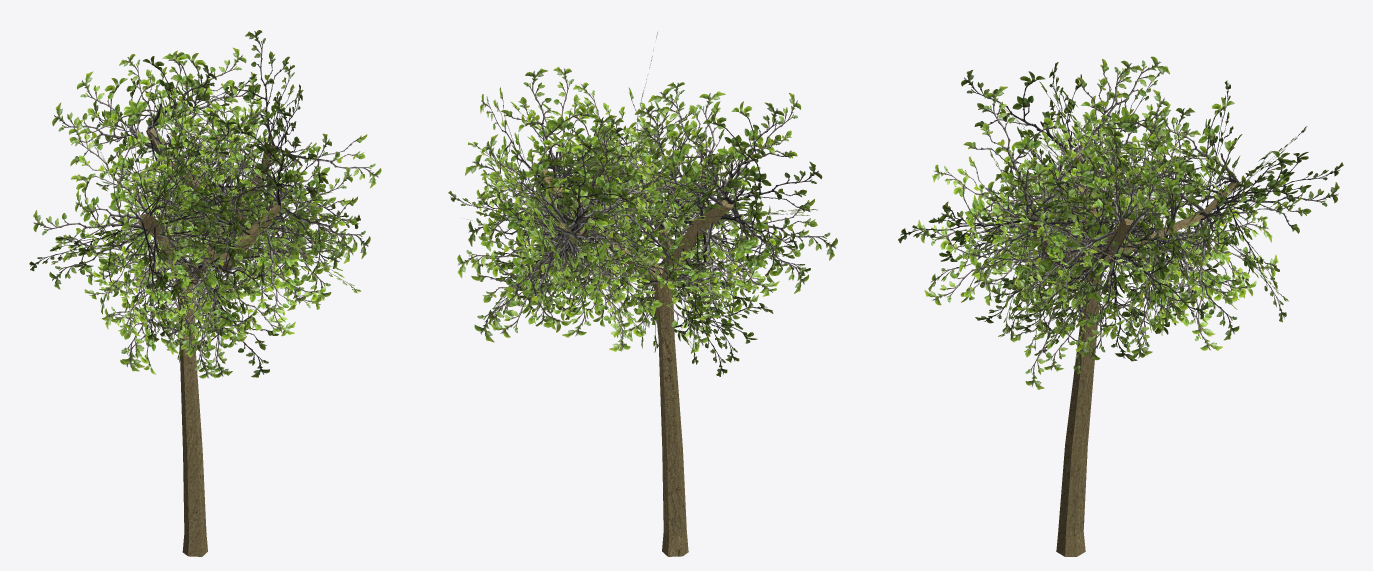
File: Tree1.fbx
3 renders of one model, left to right at view 1: azimuth 30°, elevation 25°; view 2: azimuth 150°, elevation 25°; view 3: azimuth 270°, elevation 25°, orthographic. The views are drawn at different scales.
Parts seen in each view (by area): view 1: Tree1, Tree1|Tree branchvebg-preview|Dupli|31, Tree1|Tree branchvebg-preview|Dupli|193, Tree1|Tree branchvebg-preview|Dupli|196, Tree1|Tree branchvebg-preview|Dupli|25, Tree1|Tree branchvebg-preview|Dupli|111, Tree1|Tree branchvebg-preview|Dupli|176, Tree1|Tree branchvebg-preview|Dupli|114, Tree1|Tree branchvebg-preview|Dupli|72, Tree1|Tree branchvebg-preview|Dupli|150, Tree1|Tree branchvebg-preview|Dupli|37, Tree1|Tree branchvebg-preview|Dupli|64 (+65 smaller); view 2: Tree1, Tree1|Tree branchvebg-preview|Dupli|113, Tree1|Tree branchvebg-preview|Dupli|44, Tree1|Tree branchvebg-preview|Dupli|152, Tree1|Tree branchvebg-preview|Dupli|24, Tree1|Tree branchvebg-preview|Dupli|116, Tree1|Tree branchvebg-preview|Dupli|81, Tree1|Tree branchvebg-preview|Dupli|147, Tree1|Tree branchvebg-preview|Dupli|52, Tree1|Tree branchvebg-preview|Dupli|150, Tree1|Tree branchvebg-preview|Dupli|28, Tree1|Tree branchvebg-preview|Dupli|55 (+52 smaller); view 3: Tree1, Tree1|Tree branchvebg-preview|Dupli|176, Tree1|Tree branchvebg-preview|Dupli|75, Tree1|Tree branchvebg-preview|Dupli|79, Tree1|Tree branchvebg-preview|Dupli|112, Tree1|Tree branchvebg-preview|Dupli|77, Tree1|Tree branchvebg-preview|Dupli|181, Tree1|Tree branchvebg-preview|Dupli|177, Tree1|Tree branchvebg-preview|Dupli|20, Tree1|Tree branchvebg-preview|Dupli|146, Tree1|Tree branchvebg-preview|Dupli|184, Tree1|Tree branchvebg-preview|Dupli|48 (+46 smaller).
Part boxes in pixels (x1,y1,x2,y2): Tree1: [138, 128, 282, 556]; Tree1|Tree branchvebg-preview|Dupli|31: [68, 119, 151, 214]; Tree1|Tree branchvebg-preview|Dupli|193: [239, 230, 325, 335]; Tree1|Tree branchvebg-preview|Dupli|196: [284, 196, 370, 281]; Tree1|Tree branchvebg-preview|Dupli|25: [33, 173, 145, 262]; Tree1|Tree branchvebg-preview|Dupli|111: [52, 78, 156, 166]; Tree1|Tree branchvebg-preview|Dupli|176: [233, 105, 317, 205]; Tree1|Tree branchvebg-preview|Dupli|114: [76, 71, 165, 149]; Tree1|Tree branchvebg-preview|Dupli|72: [224, 30, 289, 145]; Tree1|Tree branchvebg-preview|Dupli|150: [108, 54, 166, 151]; Tree1|Tree branchvebg-preview|Dupli|37: [49, 225, 153, 296]; Tree1|Tree branchvebg-preview|Dupli|64: [273, 134, 381, 209]; Tree1: [539, 167, 733, 556]; Tree1|Tree branchvebg-preview|Dupli|113: [471, 233, 571, 342]; Tree1|Tree branchvebg-preview|Dupli|44: [638, 88, 734, 203]; Tree1|Tree branchvebg-preview|Dupli|152: [481, 133, 567, 224]; Tree1|Tree branchvebg-preview|Dupli|24: [731, 206, 809, 295]; Tree1|Tree branchvebg-preview|Dupli|116: [486, 240, 575, 337]; Tree1|Tree branchvebg-preview|Dupli|81: [501, 68, 598, 178]; Tree1|Tree branchvebg-preview|Dupli|147: [552, 238, 636, 335]; Tree1|Tree branchvebg-preview|Dupli|52: [573, 153, 674, 234]; Tree1|Tree branchvebg-preview|Dupli|150: [546, 143, 635, 232]; Tree1|Tree branchvebg-preview|Dupli|28: [703, 102, 795, 194]; Tree1|Tree branchvebg-preview|Dupli|55: [465, 148, 582, 251]; Tree1: [1027, 154, 1238, 556]; Tree1|Tree branchvebg-preview|Dupli|176: [963, 86, 1066, 216]; Tree1|Tree branchvebg-preview|Dupli|75: [1055, 236, 1138, 360]; Tree1|Tree branchvebg-preview|Dupli|79: [1016, 212, 1113, 309]; Tree1|Tree branchvebg-preview|Dupli|112: [1156, 97, 1239, 183]; Tree1|Tree branchvebg-preview|Dupli|77: [1125, 127, 1208, 235]; Tree1|Tree branchvebg-preview|Dupli|181: [917, 176, 1032, 272]; Tree1|Tree branchvebg-preview|Dupli|177: [924, 227, 1033, 305]; Tree1|Tree branchvebg-preview|Dupli|20: [961, 70, 1067, 153]; Tree1|Tree branchvebg-preview|Dupli|146: [1205, 151, 1339, 233]; Tree1|Tree branchvebg-preview|Dupli|184: [1030, 115, 1120, 217]; Tree1|Tree branchvebg-preview|Dupli|48: [1167, 220, 1256, 336].
Size of the model in its own units: 520 by 686 by 587.
Materials: 2 (2 with a texture image).
